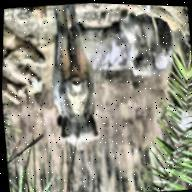boar: (39, 9, 115, 154)
